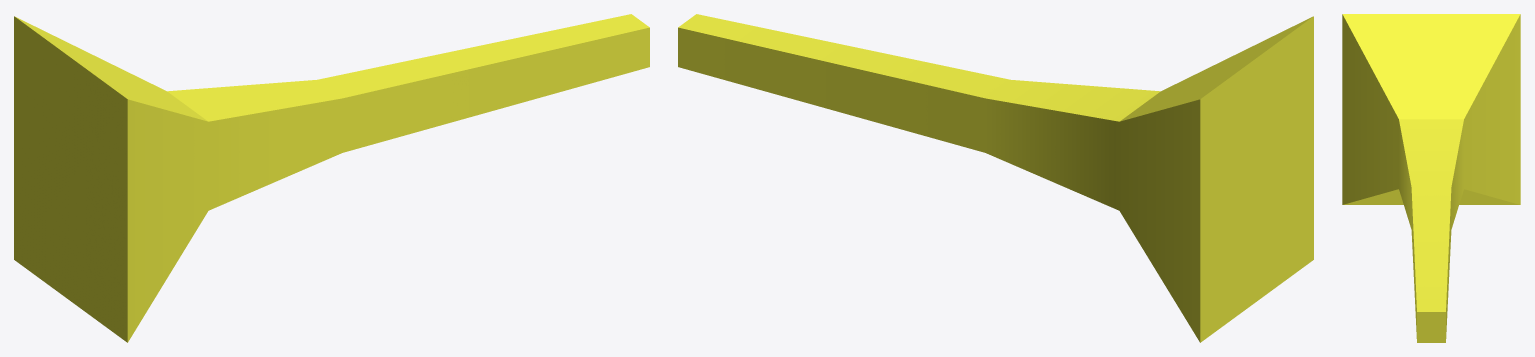
The model's file is horn.fbx.
3 renders of one model, left to right at view 1: azimuth 30°, elevation 25°; view 2: azimuth 150°, elevation 25°; view 3: azimuth 270°, elevation 25°, orthographic. The views are drawn at different scales.
Visible parts, largest first — view 1: pCube6; view 2: pCube6; view 3: pCube6.
Boxes of the visible parts, left/top/right/bottom form: pCube6: left=14, top=14, right=649, bottom=342; pCube6: left=678, top=14, right=1313, bottom=342; pCube6: left=1342, top=14, right=1520, bottom=342.
Bounding box in the file's own units: 20.07 × 8.2 × 6.93.
1 material, 1 textured.
